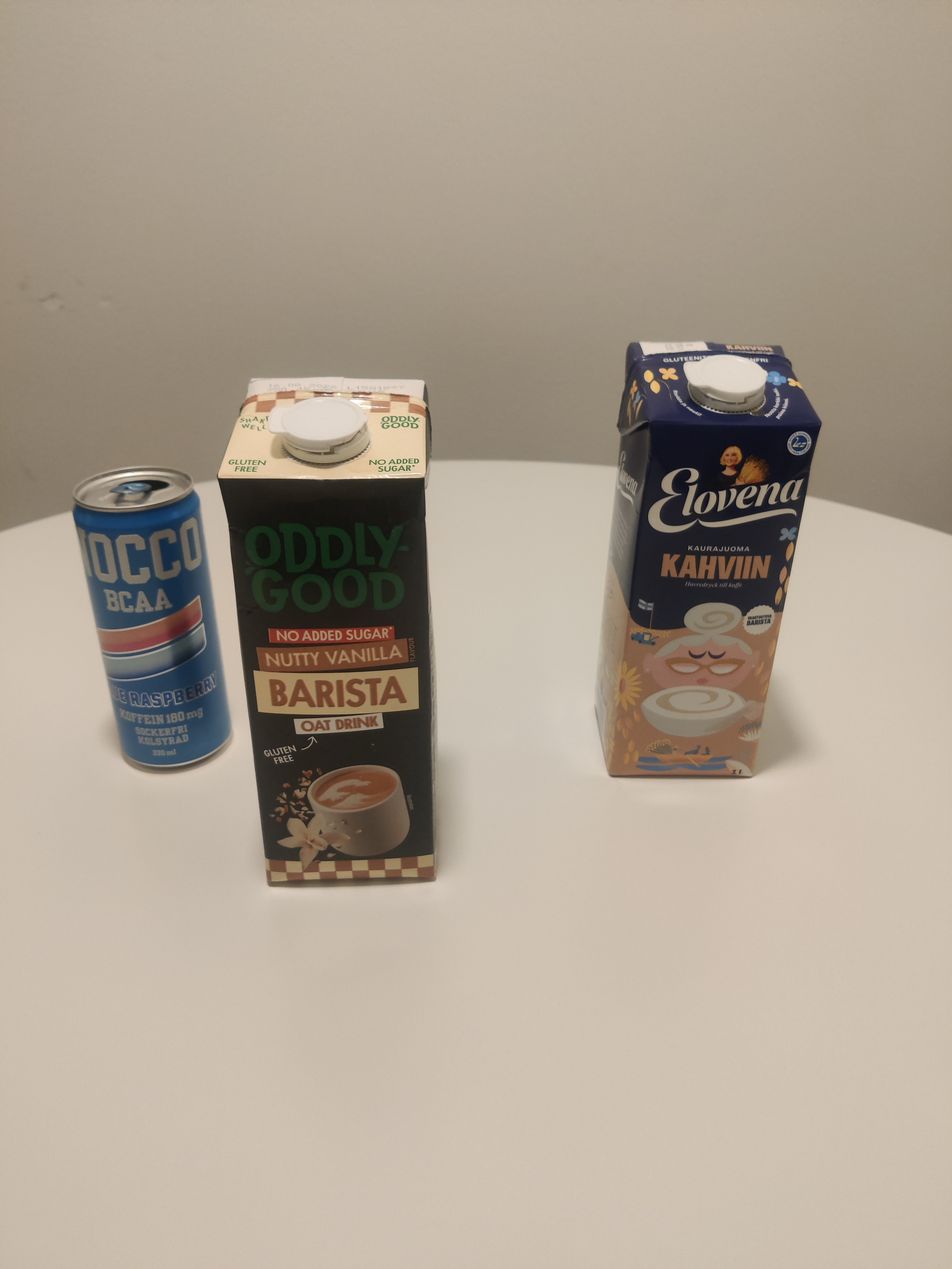Dryckeskartong: (215, 373, 441, 889), (593, 339, 825, 781)
Pantburk: (70, 469, 233, 770)
